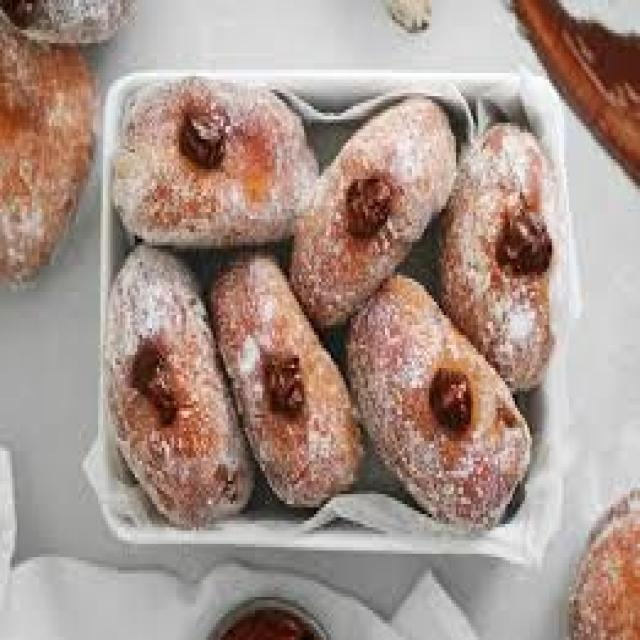Donut: (91, 80, 576, 517)
